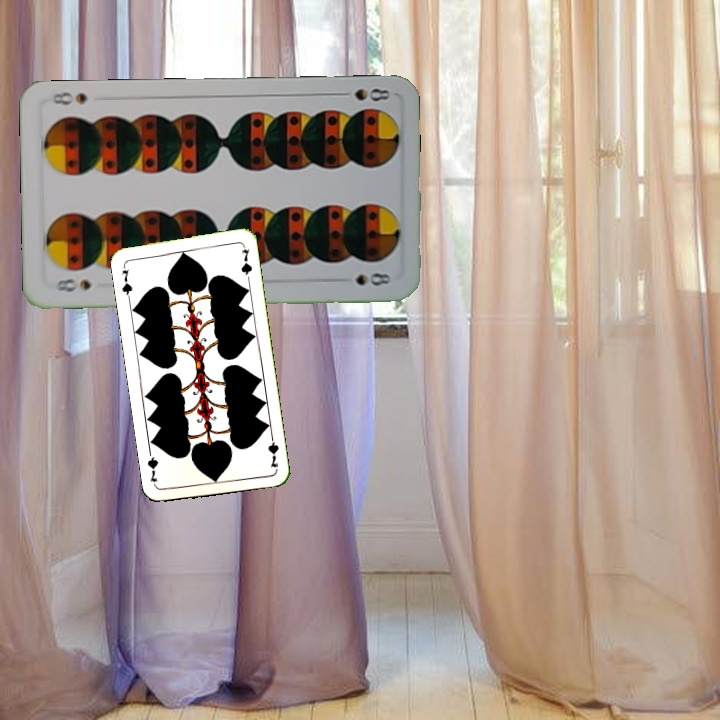G7: (264, 429, 281, 470), (117, 265, 135, 300)
S8: (334, 84, 392, 104), (50, 274, 94, 294)
